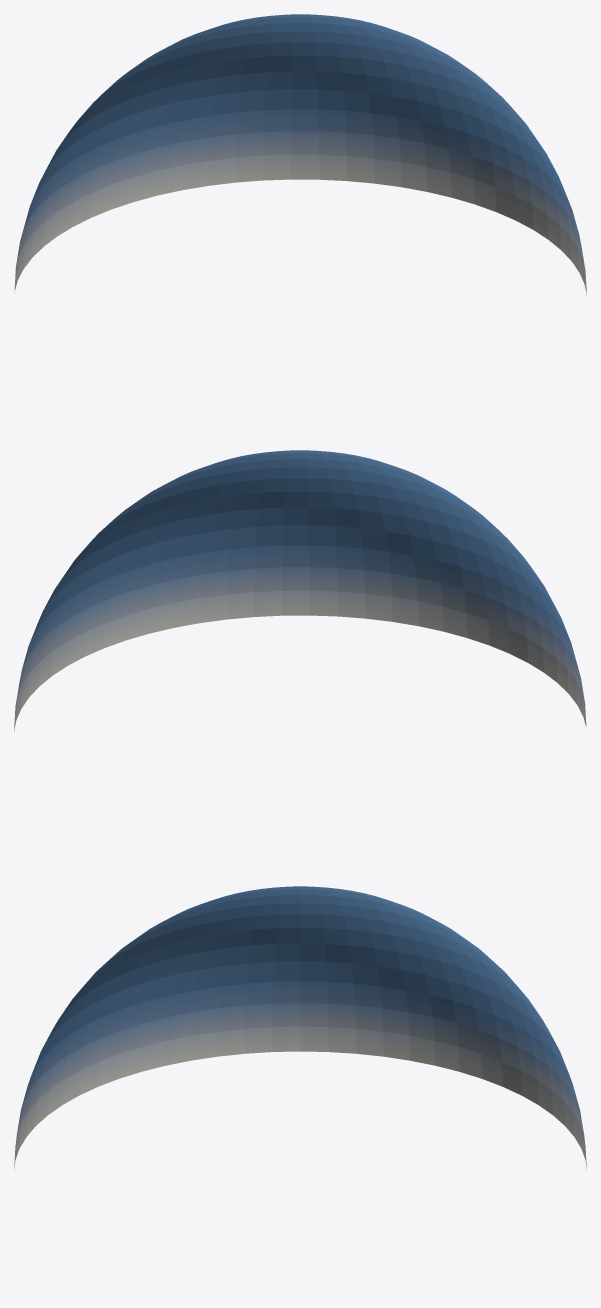
Rendered from sky_dome.glb.
The picture shows the model from 3 angles, top to bottom: view 1: azimuth 30°, elevation 25°; view 2: azimuth 150°, elevation 25°; view 3: azimuth 270°, elevation 25°; orthographic projection.
Visible parts, largest first — view 1: geometry_0; view 2: geometry_0; view 3: geometry_0.
Part boxes in pixels (<box>): geometry_0: <box>14,14,586,295</box>; geometry_0: <box>14,450,586,731</box>; geometry_0: <box>14,886,586,1170</box>.
Size of the model in its own units: 3600 by 1800 by 3600.
